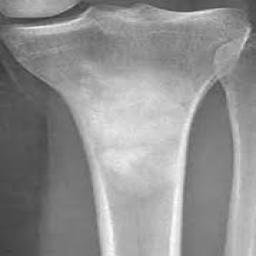cancer: (57, 68, 196, 186)
